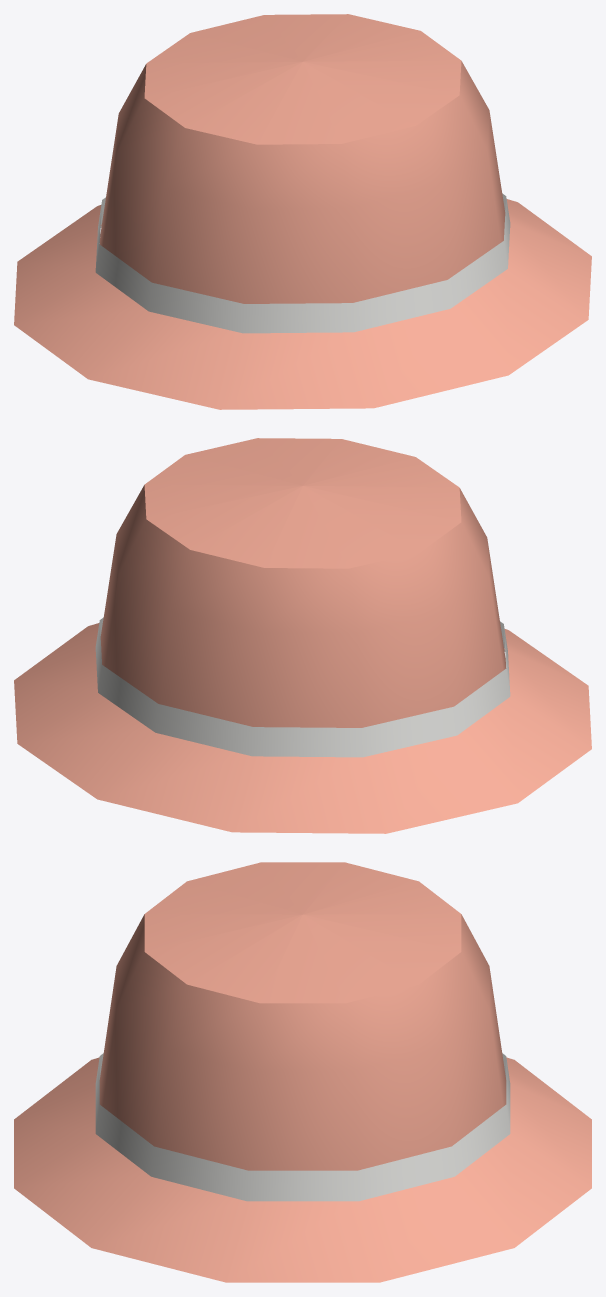
File: CharHatBucket.fbx
The picture shows the model from 3 angles, top to bottom: view 1: azimuth 30°, elevation 25°; view 2: azimuth 150°, elevation 25°; view 3: azimuth 270°, elevation 25°; orthographic projection. The views are drawn at different scales.
Visible parts, largest first — view 1: CharHatBucket; view 2: CharHatBucket; view 3: CharHatBucket.
Part boxes in pixels (box(x1,y1,x2,y2)): CharHatBucket: box(14, 14, 591, 409); CharHatBucket: box(14, 438, 591, 833); CharHatBucket: box(14, 862, 591, 1282).
Size of the model in its own units: 0.5989 by 0.26 by 0.5689.
